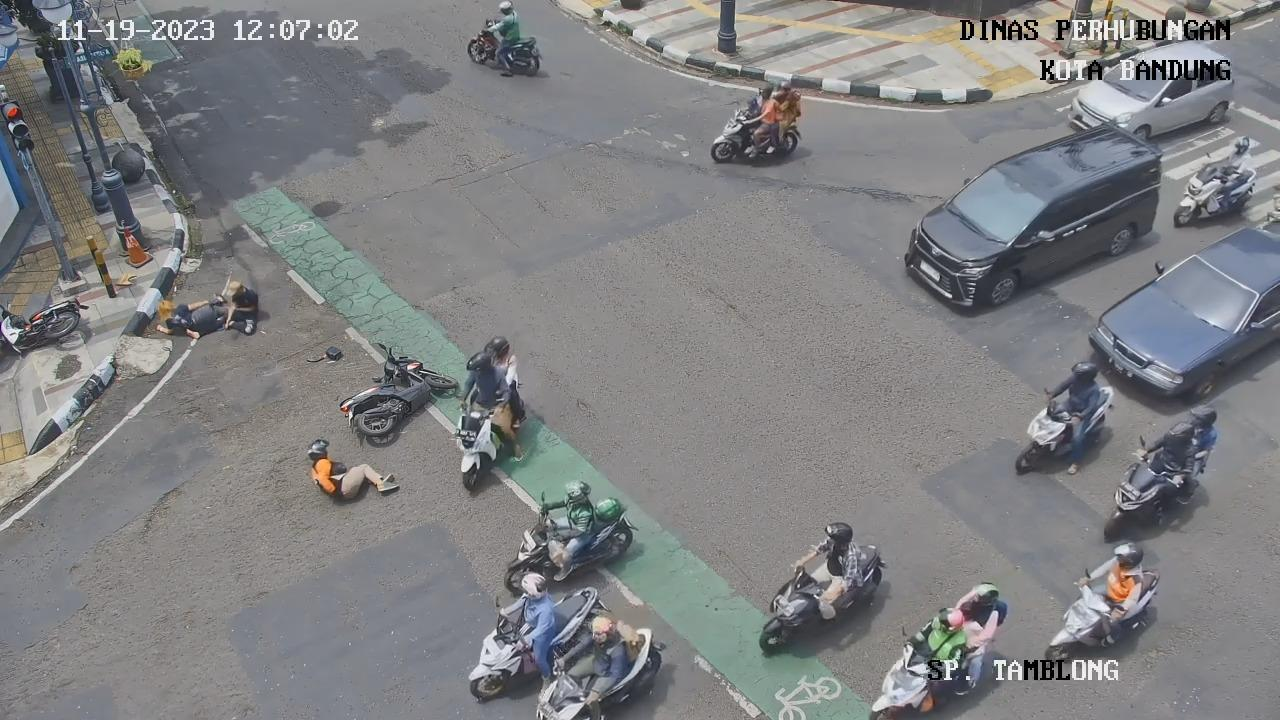accident: (289, 433, 402, 513), (153, 290, 225, 344), (220, 269, 269, 341)
